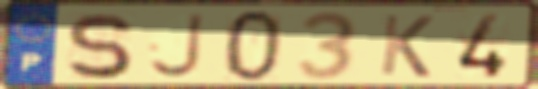0: (221, 8, 286, 83)
3: (296, 10, 363, 83)
4: (454, 12, 510, 80)
J: (146, 11, 206, 80)
K: (377, 12, 437, 80)
S: (62, 11, 135, 81)
